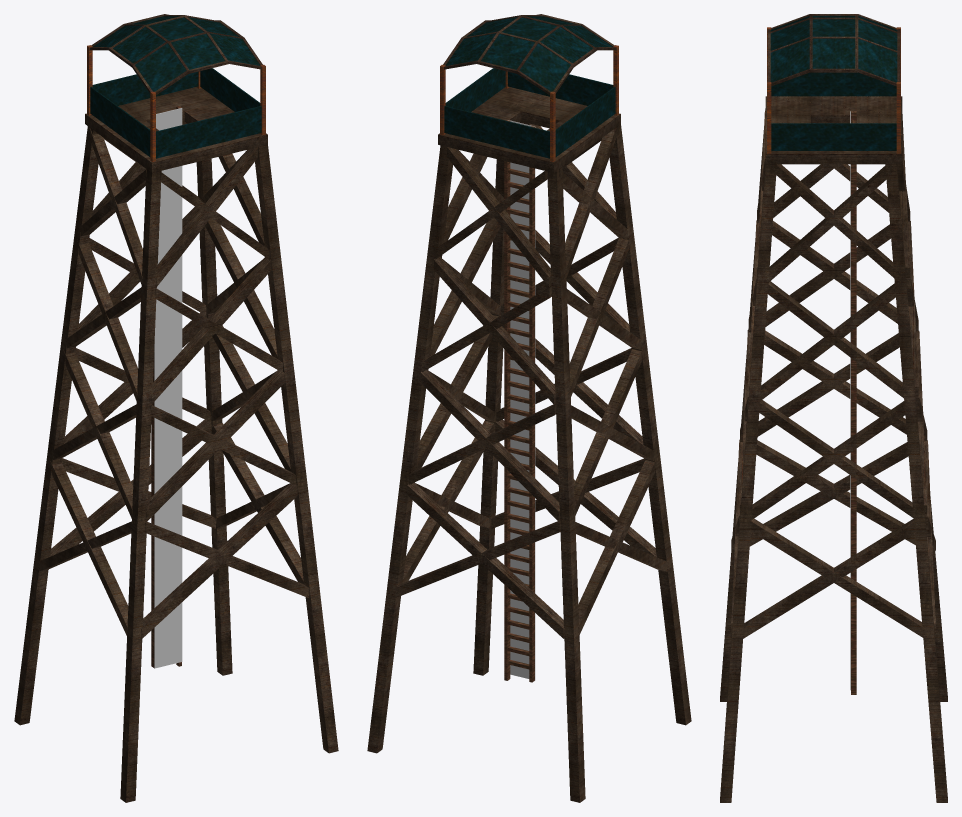
The model's file is glass-tower.obj.
3 views of the same model, side by side, from view 1: azimuth 30°, elevation 25°; view 2: azimuth 150°, elevation 25°; view 3: azimuth 270°, elevation 25° (orthographic). The views are drawn at different scales.
Parts seen in each view (by area): view 1: entity0_brush124, entity0_brush2, entity0_brush0, entity0_brush3, entity0_brush1, entity0_brush63, entity0_brush9, entity0_brush61, entity0_brush72, entity0_brush59, entity0_brush70, entity0_brush57 (+34 smaller); view 2: entity0_brush3, entity0_brush1, entity0_brush2, entity0_brush124, entity0_brush0, entity0_brush55, entity0_brush11, entity0_brush53, entity0_brush51, entity0_brush71, entity0_brush82, entity0_brush81 (+36 smaller); view 3: entity0_brush0, entity0_brush1, entity0_brush12, entity0_brush4, entity0_brush79, entity0_brush80, entity0_brush10, entity0_brush82, entity0_brush77, entity0_brush78, entity0_brush75, entity0_brush76 (+27 smaller).
Boxes of the visible parts, left/top/right/bottom form: entity0_brush124: left=154, top=108, right=182, bottom=668; entity0_brush2: left=120, top=169, right=161, bottom=802; entity0_brush0: left=255, top=145, right=338, bottom=753; entity0_brush3: left=14, top=126, right=98, bottom=725; entity0_brush1: left=196, top=158, right=232, bottom=675; entity0_brush63: left=141, top=483, right=297, bottom=639; entity0_brush9: left=156, top=106, right=261, bottom=158; entity0_brush61: left=146, top=370, right=284, bottom=521; entity0_brush72: left=50, top=461, right=128, bottom=635; entity0_brush59: left=151, top=257, right=271, bottom=404; entity0_brush70: left=63, top=350, right=133, bottom=518; entity0_brush57: left=155, top=147, right=257, bottom=287; entity0_brush3: left=547, top=167, right=585, bottom=802; entity0_brush1: left=367, top=145, right=452, bottom=753; entity0_brush2: left=609, top=124, right=691, bottom=725; entity0_brush124: left=508, top=120, right=535, bottom=680; entity0_brush0: left=473, top=159, right=504, bottom=675; entity0_brush55: left=407, top=482, right=564, bottom=638; entity0_brush11: left=444, top=106, right=549, bottom=158; entity0_brush53: left=420, top=369, right=559, bottom=521; entity0_brush51: left=434, top=256, right=555, bottom=404; entity0_brush71: left=578, top=460, right=655, bottom=634; entity0_brush82: left=504, top=120, right=510, bottom=680; entity0_brush81: left=529, top=126, right=534, bottom=682; entity0_brush0: left=720, top=162, right=776, bottom=802; entity0_brush1: left=885, top=164, right=947, bottom=802; entity0_brush12: left=771, top=123, right=896, bottom=150; entity0_brush4: left=765, top=96, right=902, bottom=123; entity0_brush79: left=750, top=518, right=924, bottom=637; entity0_brush80: left=743, top=519, right=917, bottom=638; entity0_brush10: left=771, top=72, right=896, bottom=96; entity0_brush82: left=851, top=164, right=856, bottom=694; entity0_brush77: left=758, top=400, right=916, bottom=517; entity0_brush78: left=751, top=401, right=909, bottom=519; entity0_brush75: left=767, top=281, right=907, bottom=398; entity0_brush76: left=760, top=283, right=900, bottom=401.
Size of the model in its own units: 352 by 1119 by 320.
